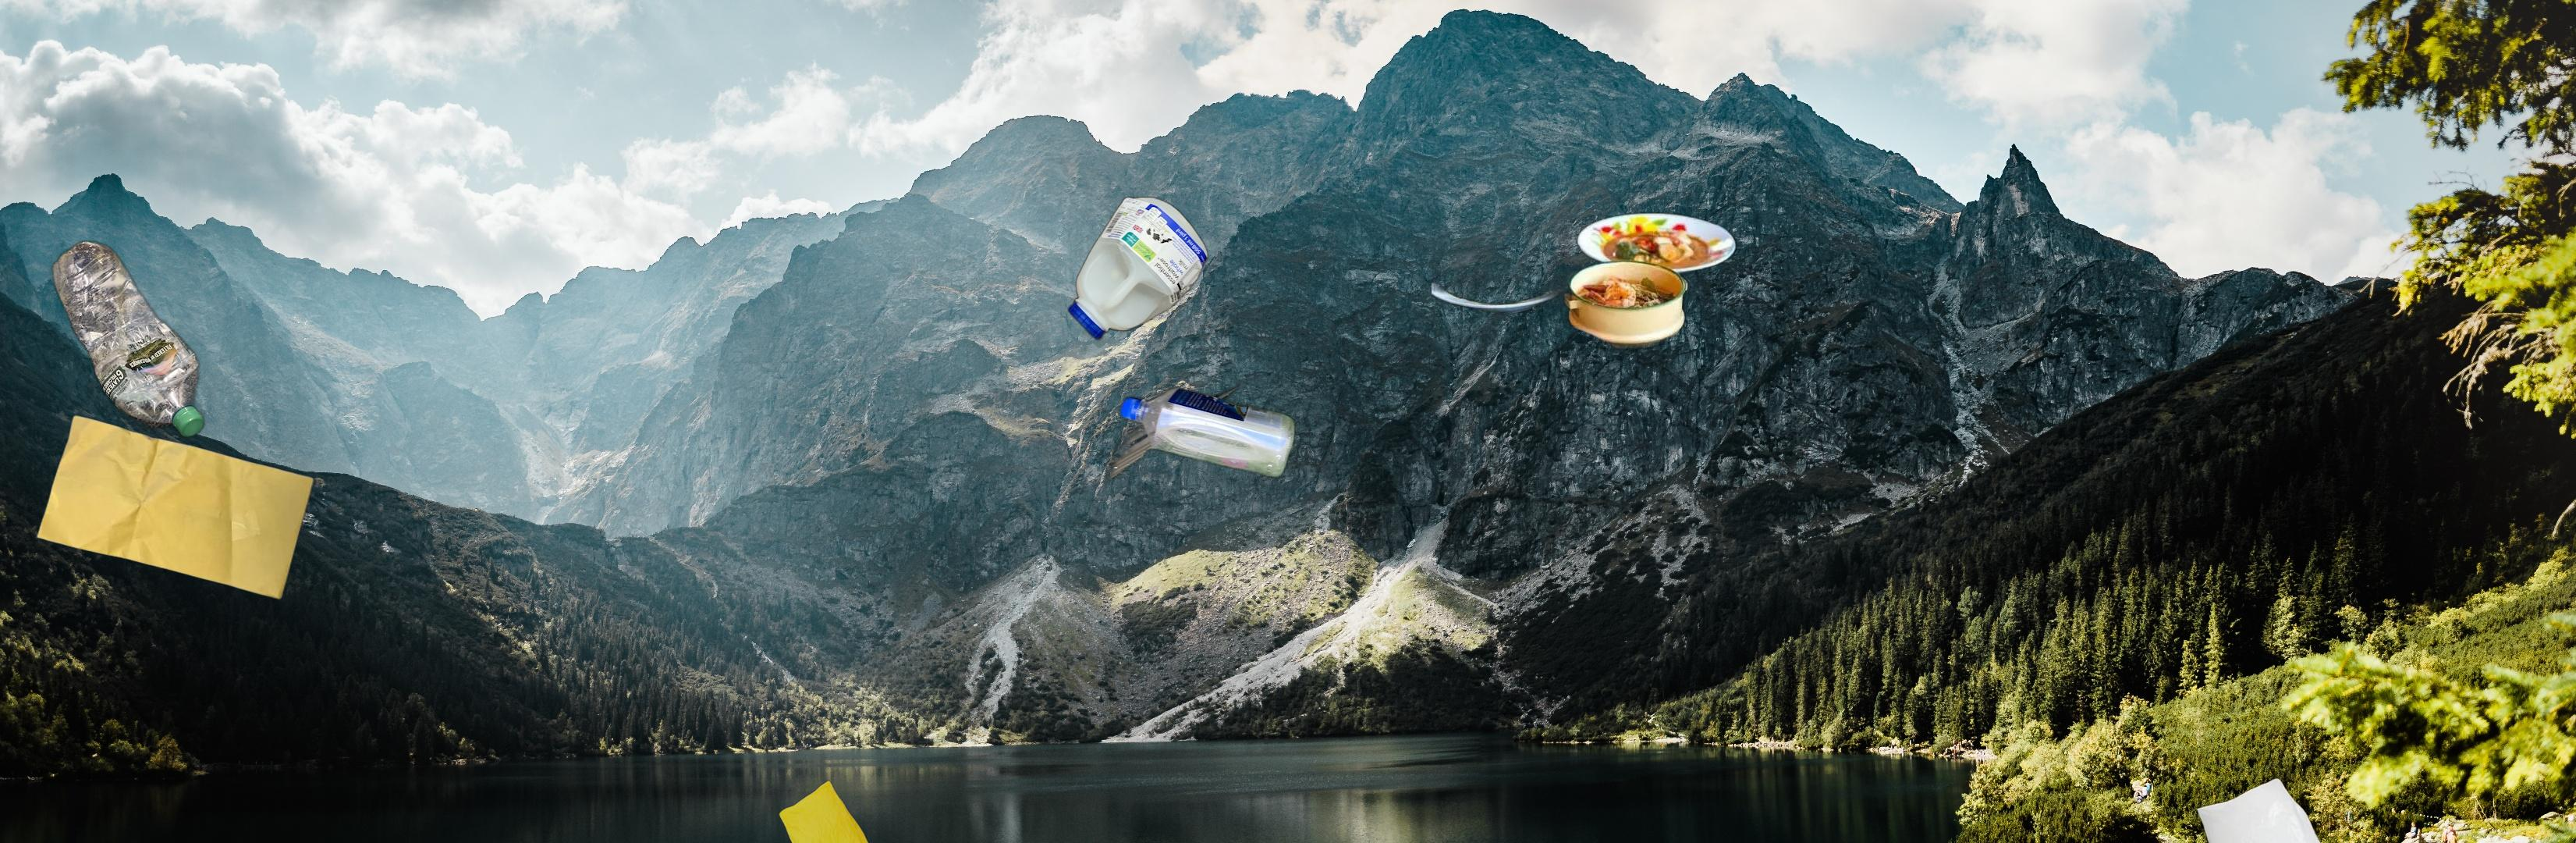biological: (1431, 205, 1848, 404)
paper: (33, 412, 319, 601)
plastic-bag: (698, 779, 894, 843), (2195, 777, 2356, 843)
plastic-bottles: (48, 235, 207, 442), (1106, 375, 1299, 498), (1065, 192, 1211, 343)
